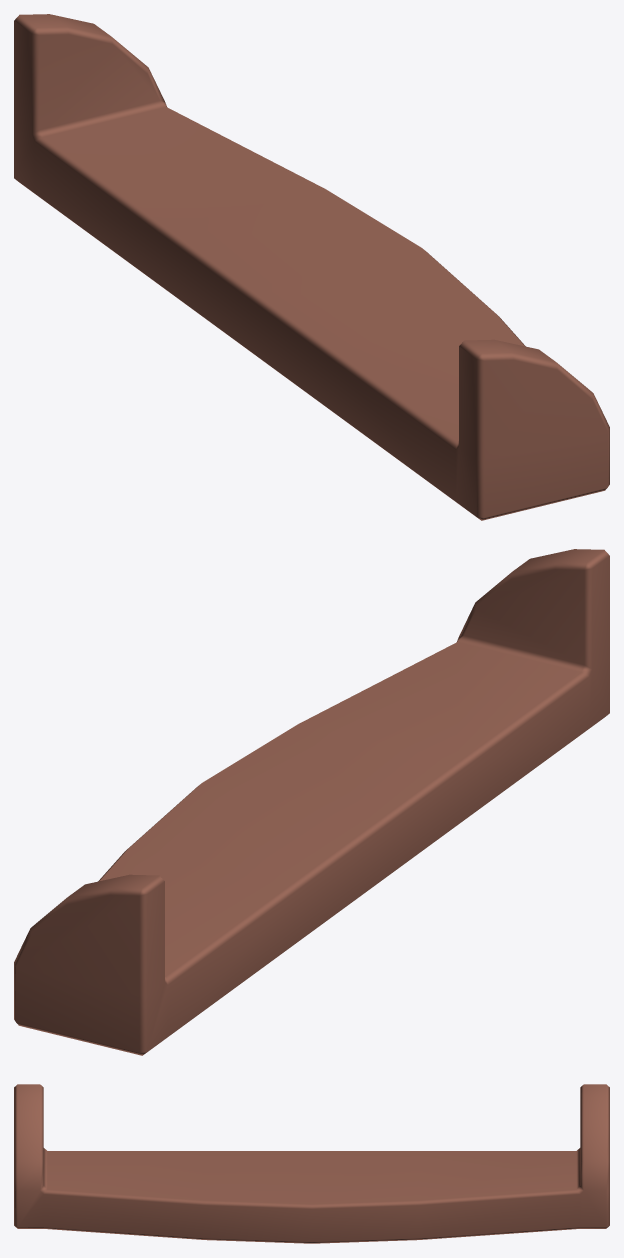
Rendered from shelf.fbx.
The picture shows the model from 3 angles, top to bottom: view 1: azimuth 30°, elevation 25°; view 2: azimuth 150°, elevation 25°; view 3: azimuth 270°, elevation 25°; orthographic projection. The views are drawn at different scales.
Visible parts, largest first — view 1: pCube9; view 2: pCube9; view 3: pCube9.
Boxes of the visible parts, x1,y1,x2,y2 form: pCube9: (14,14,609,520); pCube9: (14,549,609,1055); pCube9: (14,1084,609,1243).
Size of the model in its own units: 4.45 by 3.92 by 19.88.
